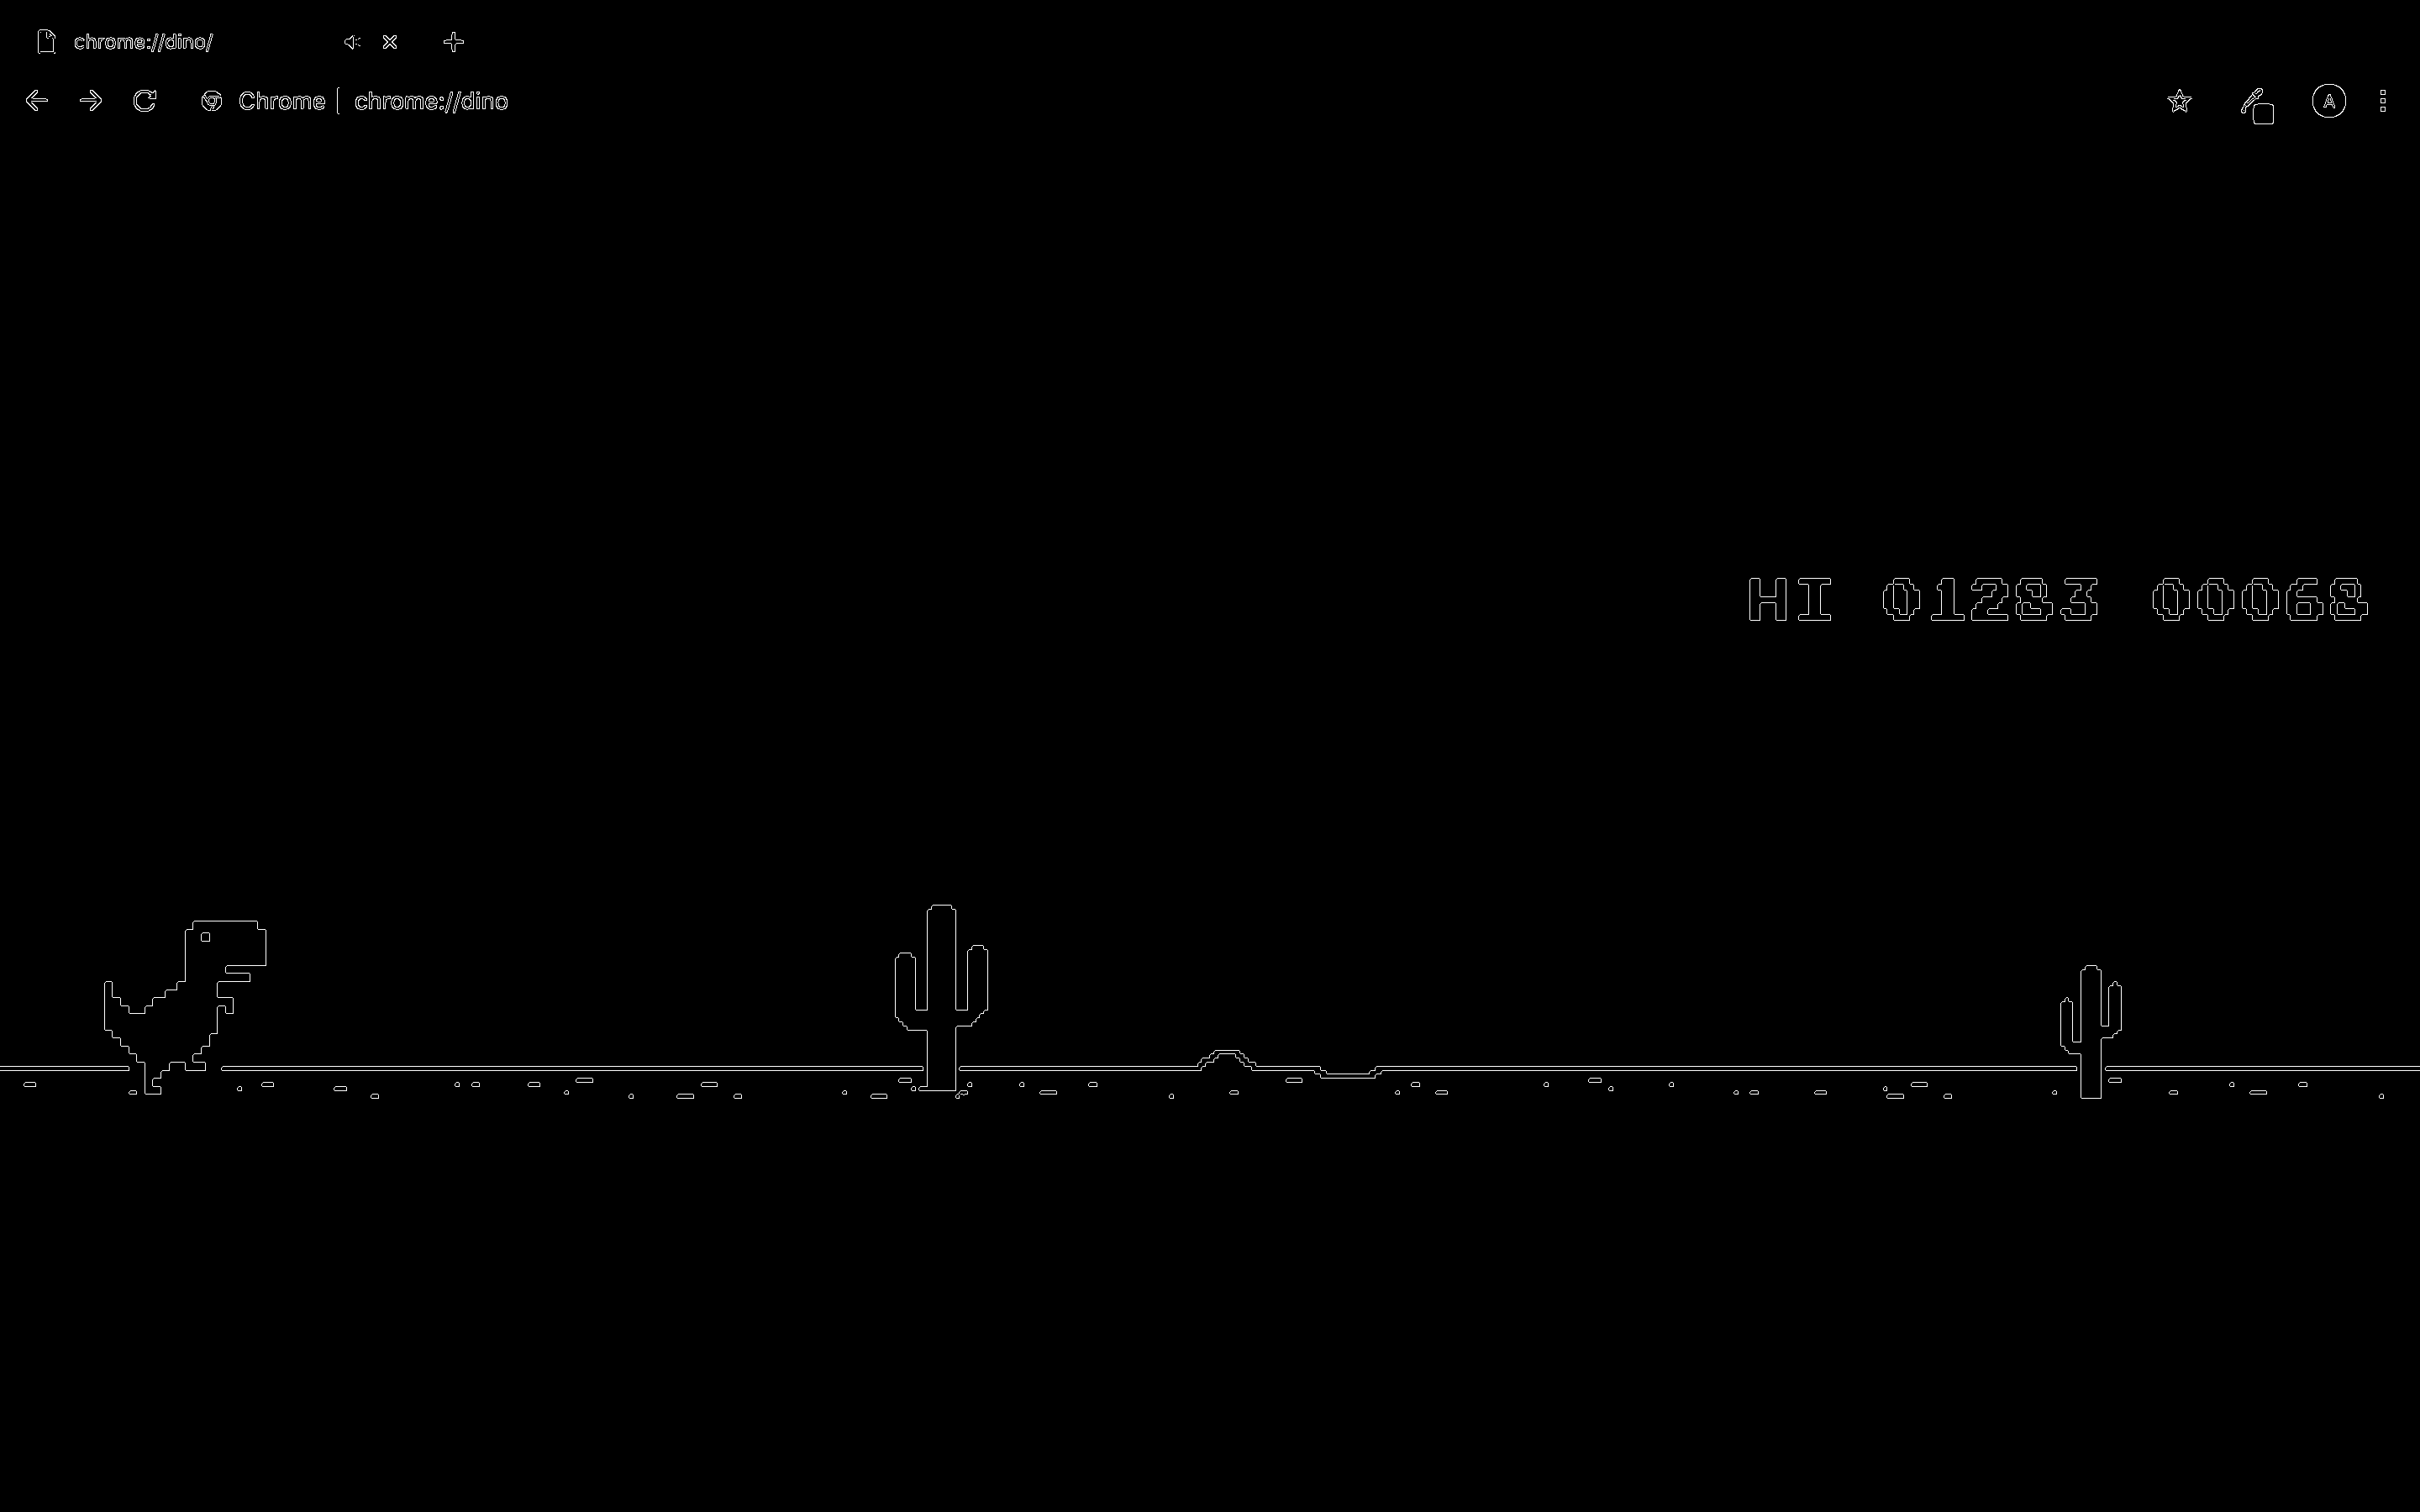Cactus: (887, 909, 997, 1089), (2044, 969, 2136, 1096)
Dino: (101, 921, 265, 1089)
